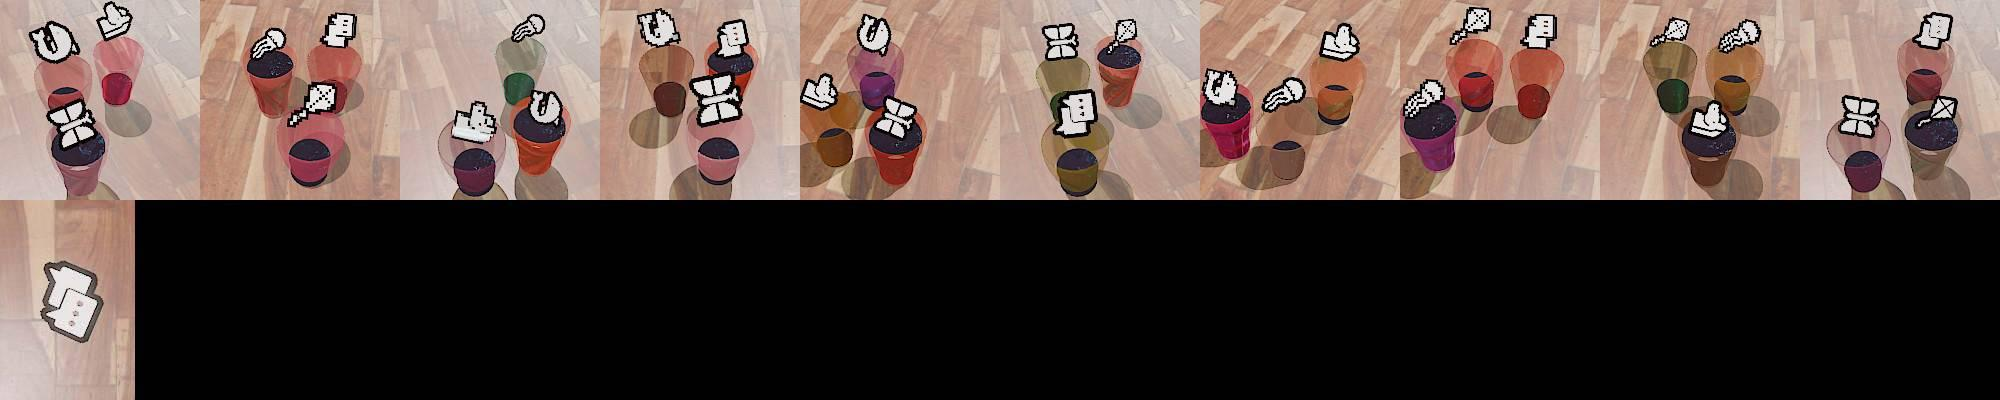icon: (40, 260, 105, 345), (46, 96, 99, 152), (690, 71, 744, 125), (286, 80, 341, 125), (28, 19, 80, 64), (1052, 88, 1098, 138), (874, 94, 920, 140), (452, 98, 497, 143), (1402, 76, 1448, 120), (635, 8, 680, 50), (1261, 75, 1307, 115), (1839, 93, 1880, 136), (1687, 98, 1732, 138), (1450, 6, 1494, 46), (1319, 22, 1361, 61), (713, 18, 751, 61), (1915, 94, 1959, 131), (1717, 17, 1761, 54), (1041, 22, 1080, 62), (1915, 11, 1954, 51), (800, 71, 839, 110), (856, 13, 892, 55), (320, 10, 358, 48), (1519, 13, 1557, 51), (96, 1, 133, 41), (1203, 68, 1239, 107), (529, 88, 564, 125), (250, 27, 288, 60), (1649, 17, 1690, 47), (1106, 18, 1138, 56), (511, 13, 546, 43)
